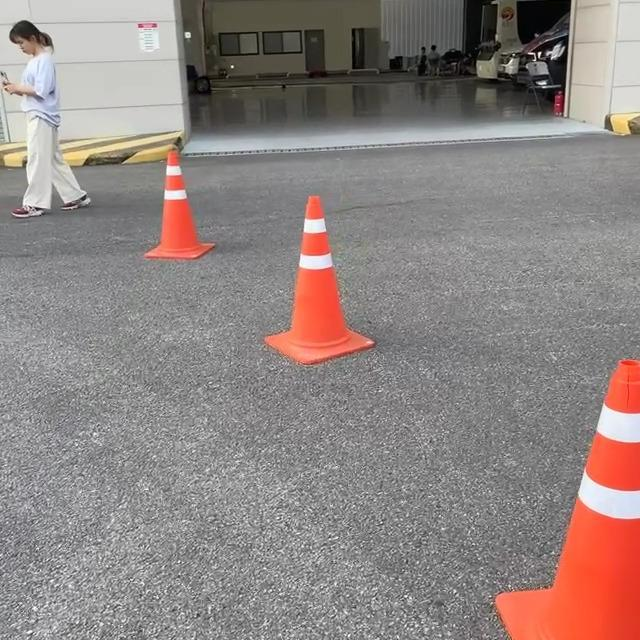fallen_object: (431, 333, 640, 640), (266, 170, 438, 420), (117, 133, 261, 311)
